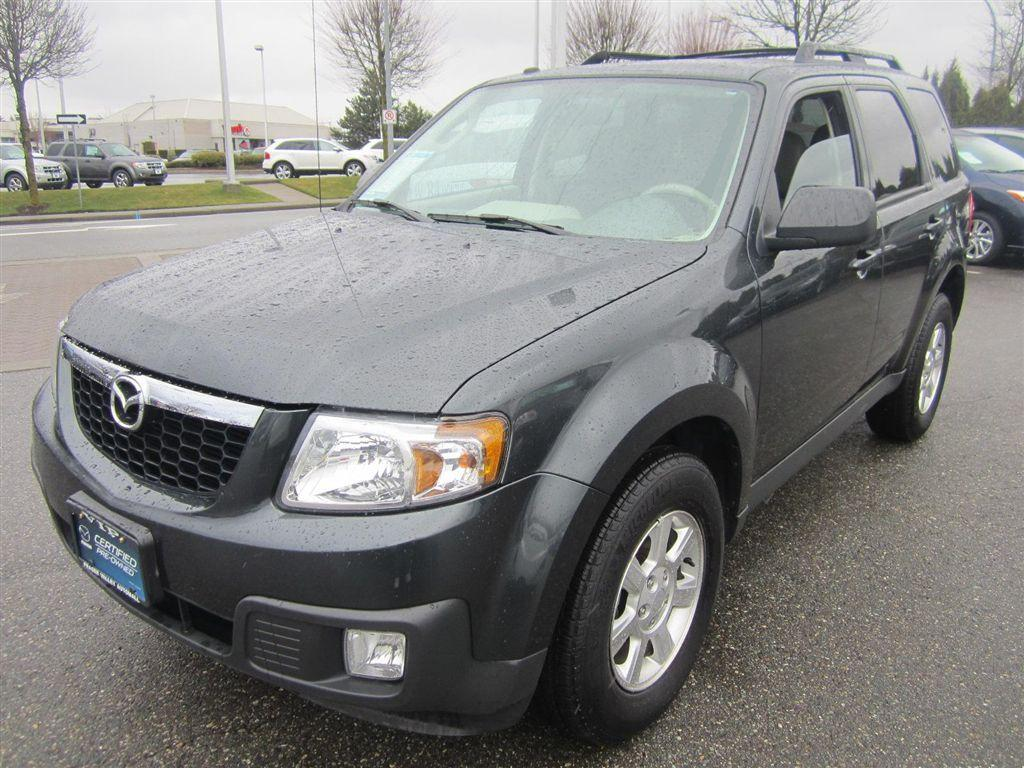Mazda: (94, 364, 161, 436)
